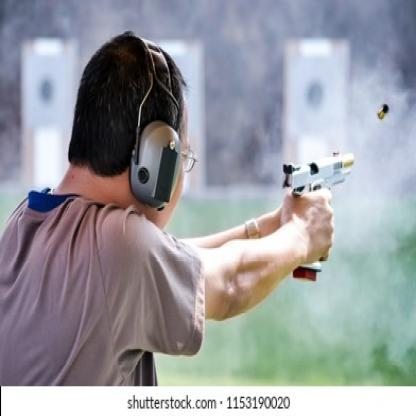handgun: (285, 155, 368, 282)
